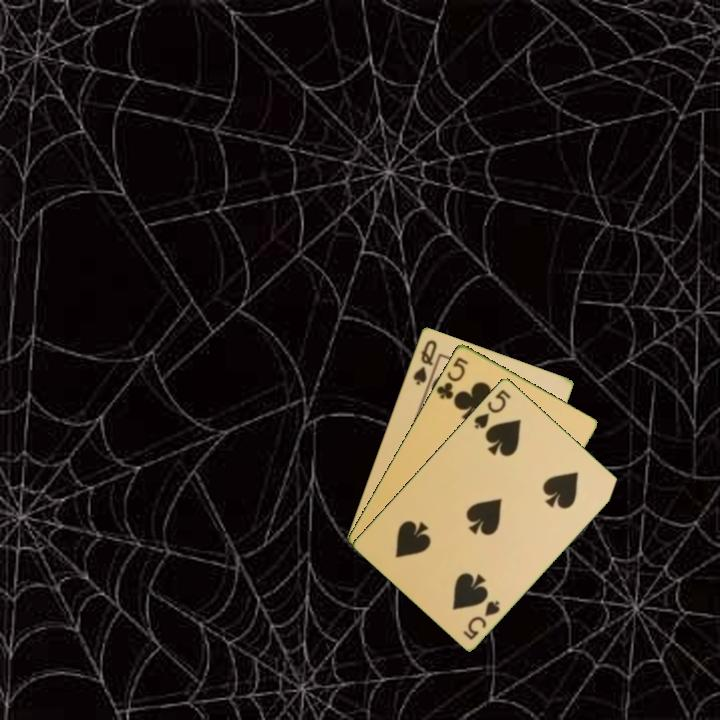5c: (433, 353, 471, 402)
5s: (470, 385, 514, 432), (459, 596, 503, 642)
Qs: (409, 336, 439, 388)
